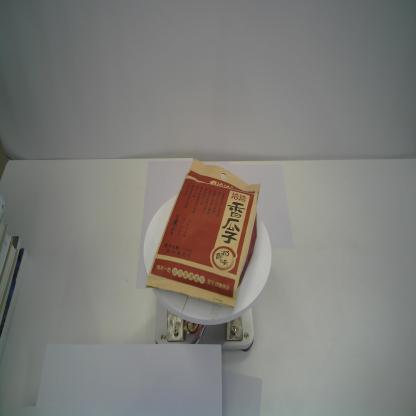Dried Food: (144, 156, 262, 310)
